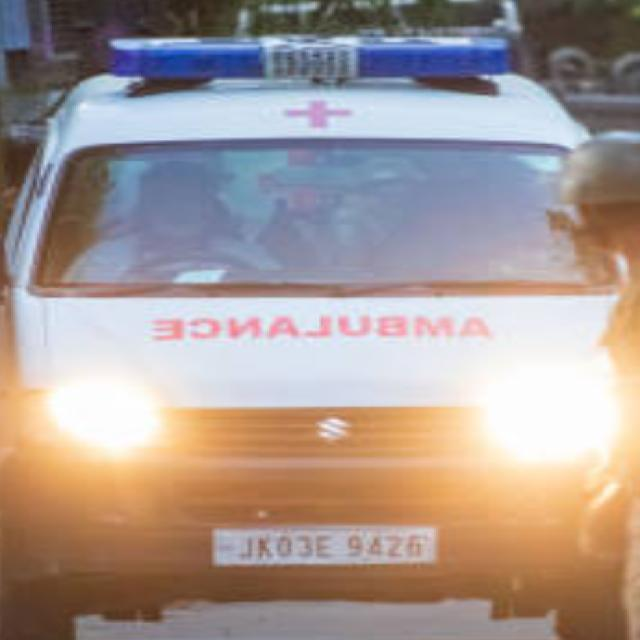emergency_vehicle: (11, 12, 638, 590)
